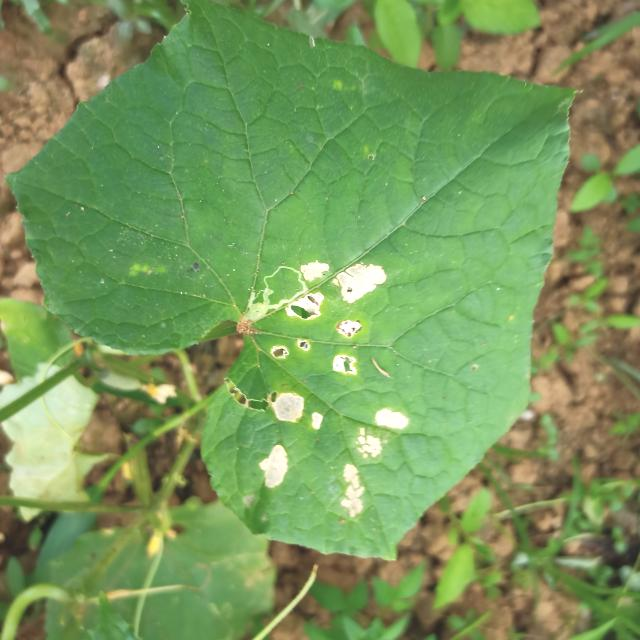disease_cucumber: (260, 260, 408, 516)
